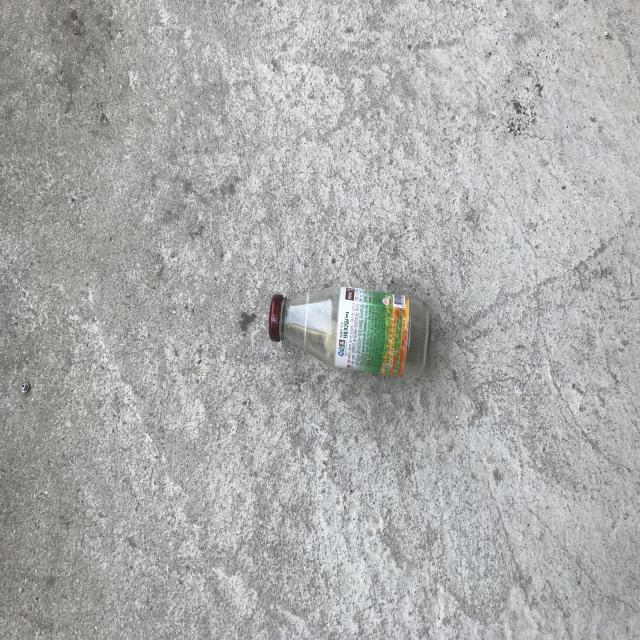glass: (269, 286, 431, 379)
